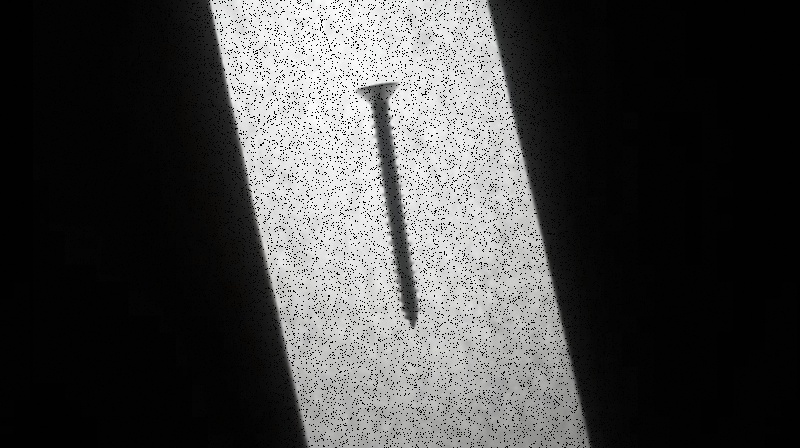S002: (352, 78, 421, 328)
